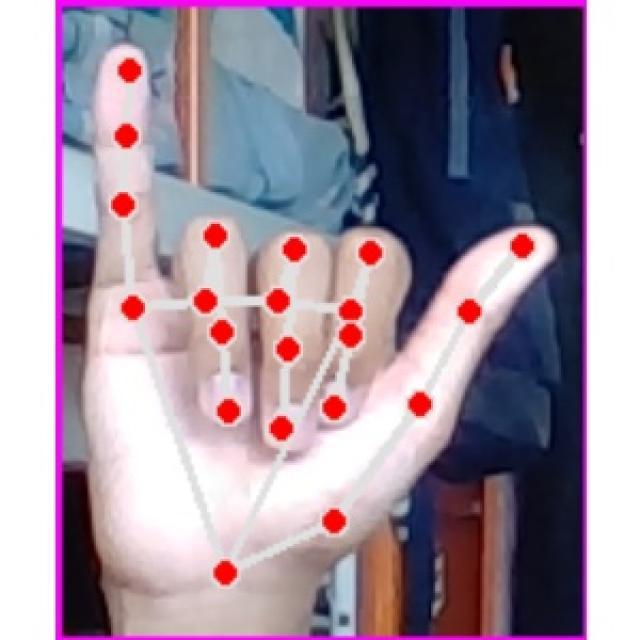Y: (80, 31, 554, 598)
